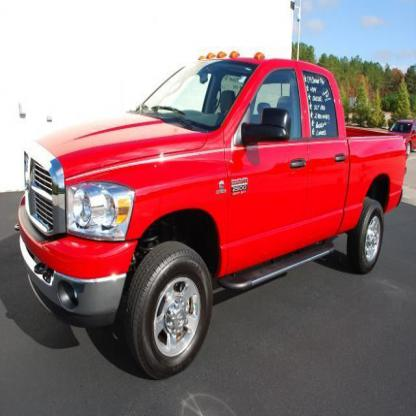Vehicle: (14, 49, 408, 382)
